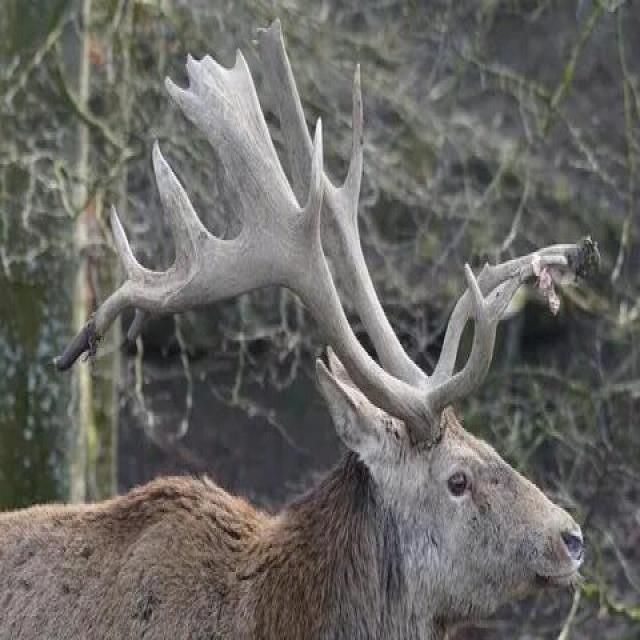deer: (0, 73, 569, 640)
